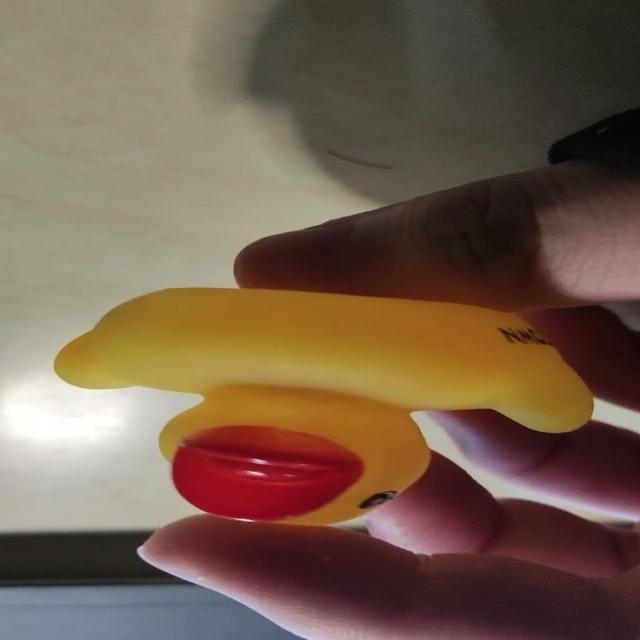rubber-duck: (53, 287, 591, 522)
